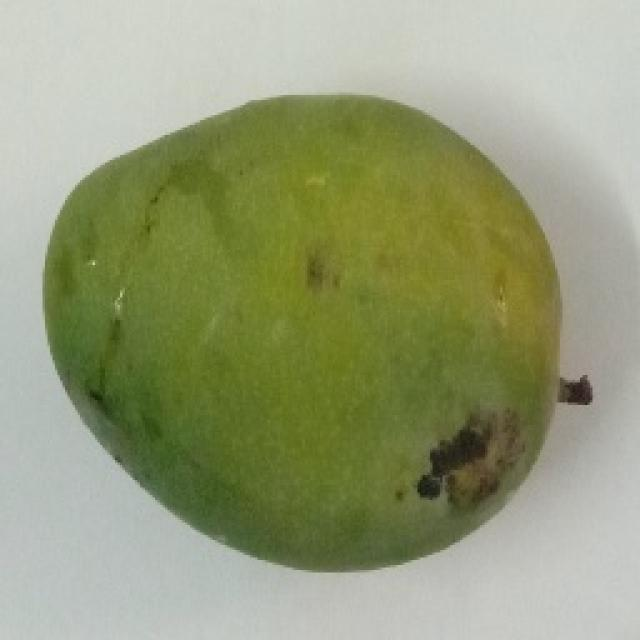defective: (40, 90, 592, 572)
